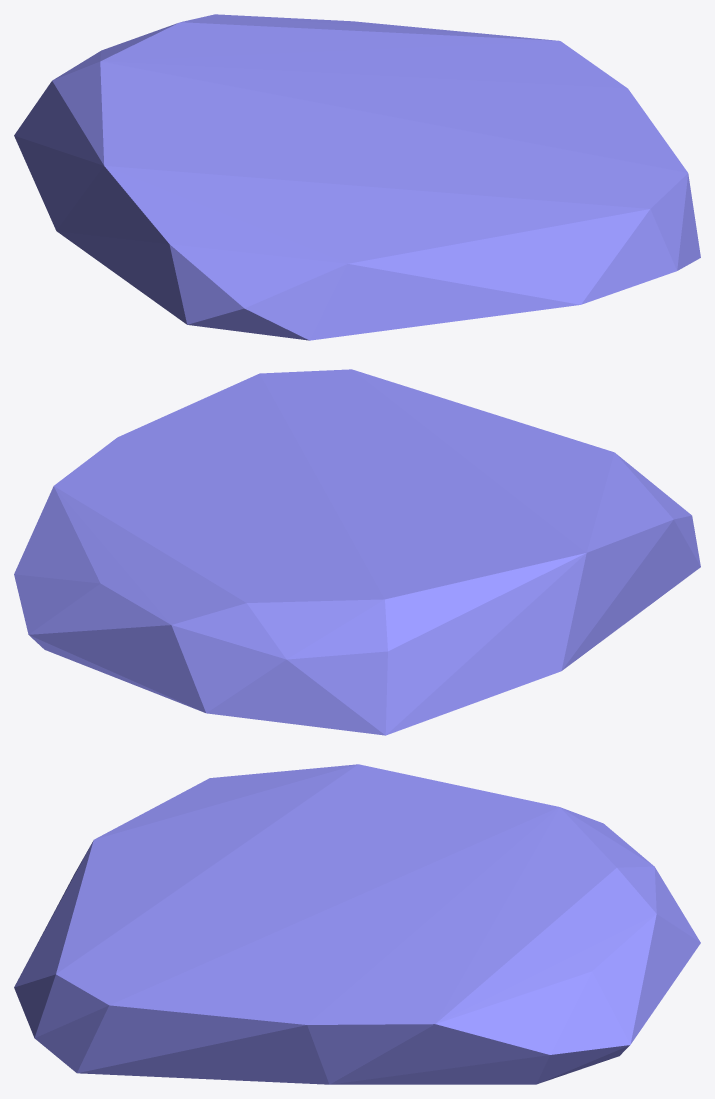
Rendered from Plate_02_Collider_01.FBX.
The picture shows the model from 3 angles, top to bottom: view 1: azimuth 30°, elevation 25°; view 2: azimuth 150°, elevation 25°; view 3: azimuth 270°, elevation 25°; orthographic projection. The views are drawn at different scales.
Parts seen in each view (by area): view 1: COLLIDER1; view 2: COLLIDER1; view 3: COLLIDER1.
Boxes of the visible parts, x1,y1,x2,y2 form: COLLIDER1: (14, 14, 700, 340); COLLIDER1: (14, 369, 700, 735); COLLIDER1: (14, 764, 700, 1084).
Bounding box in the file's own units: 128 × 25.01 × 152.
